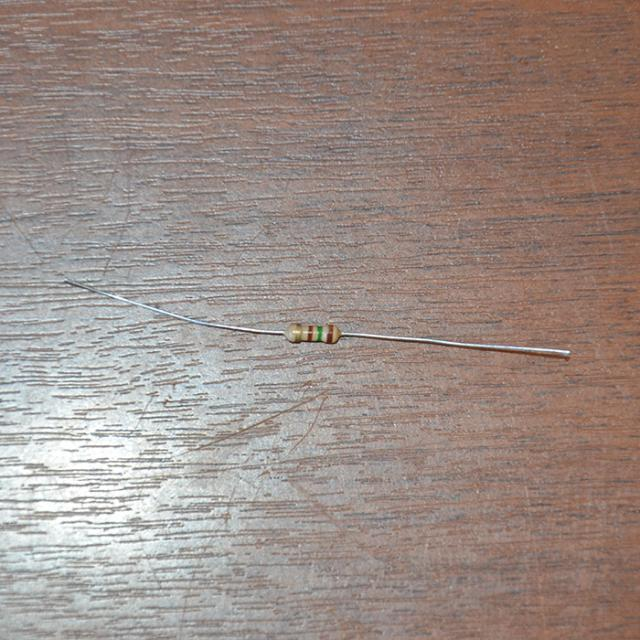brown: (307, 325, 313, 340), (328, 324, 332, 341)
gold: (295, 324, 301, 341)
green: (316, 327, 323, 341)
resistor: (280, 314, 345, 353)
